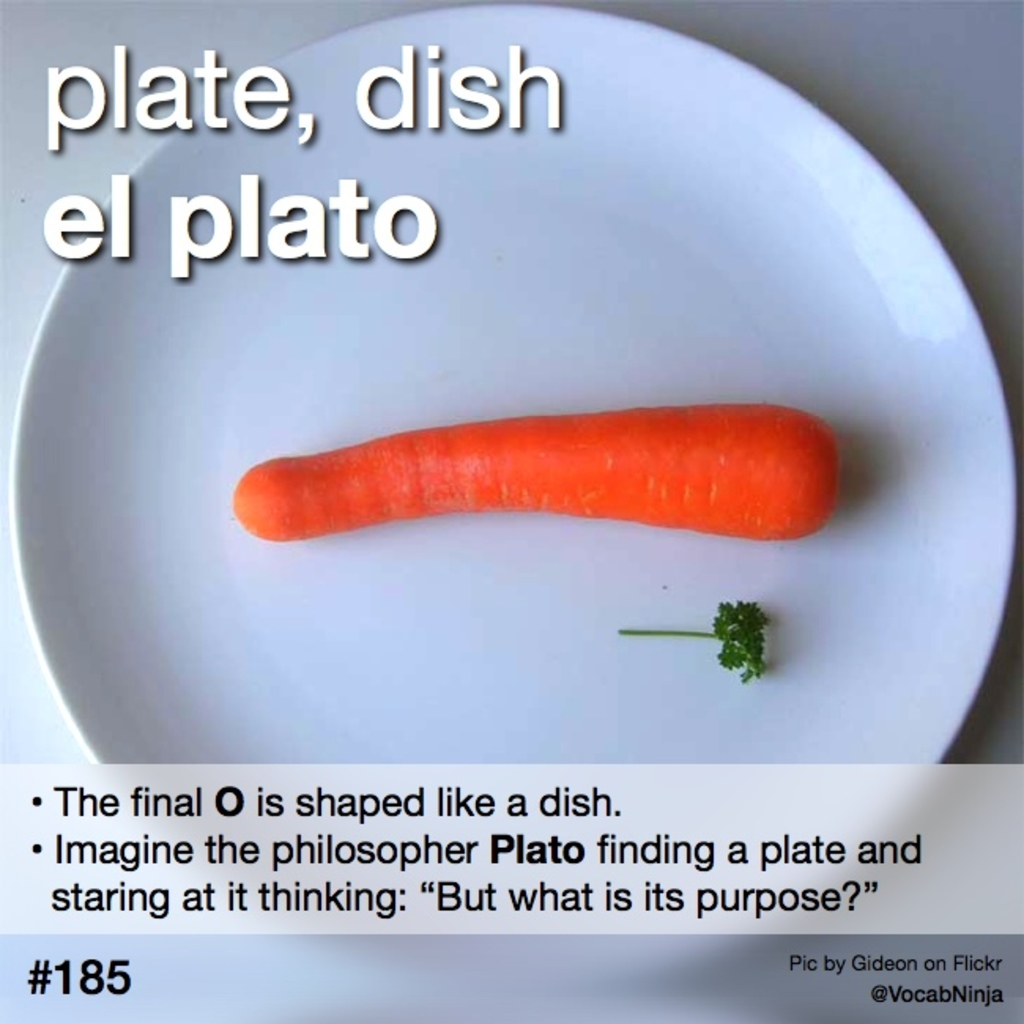Carrot: (230, 396, 844, 543)
